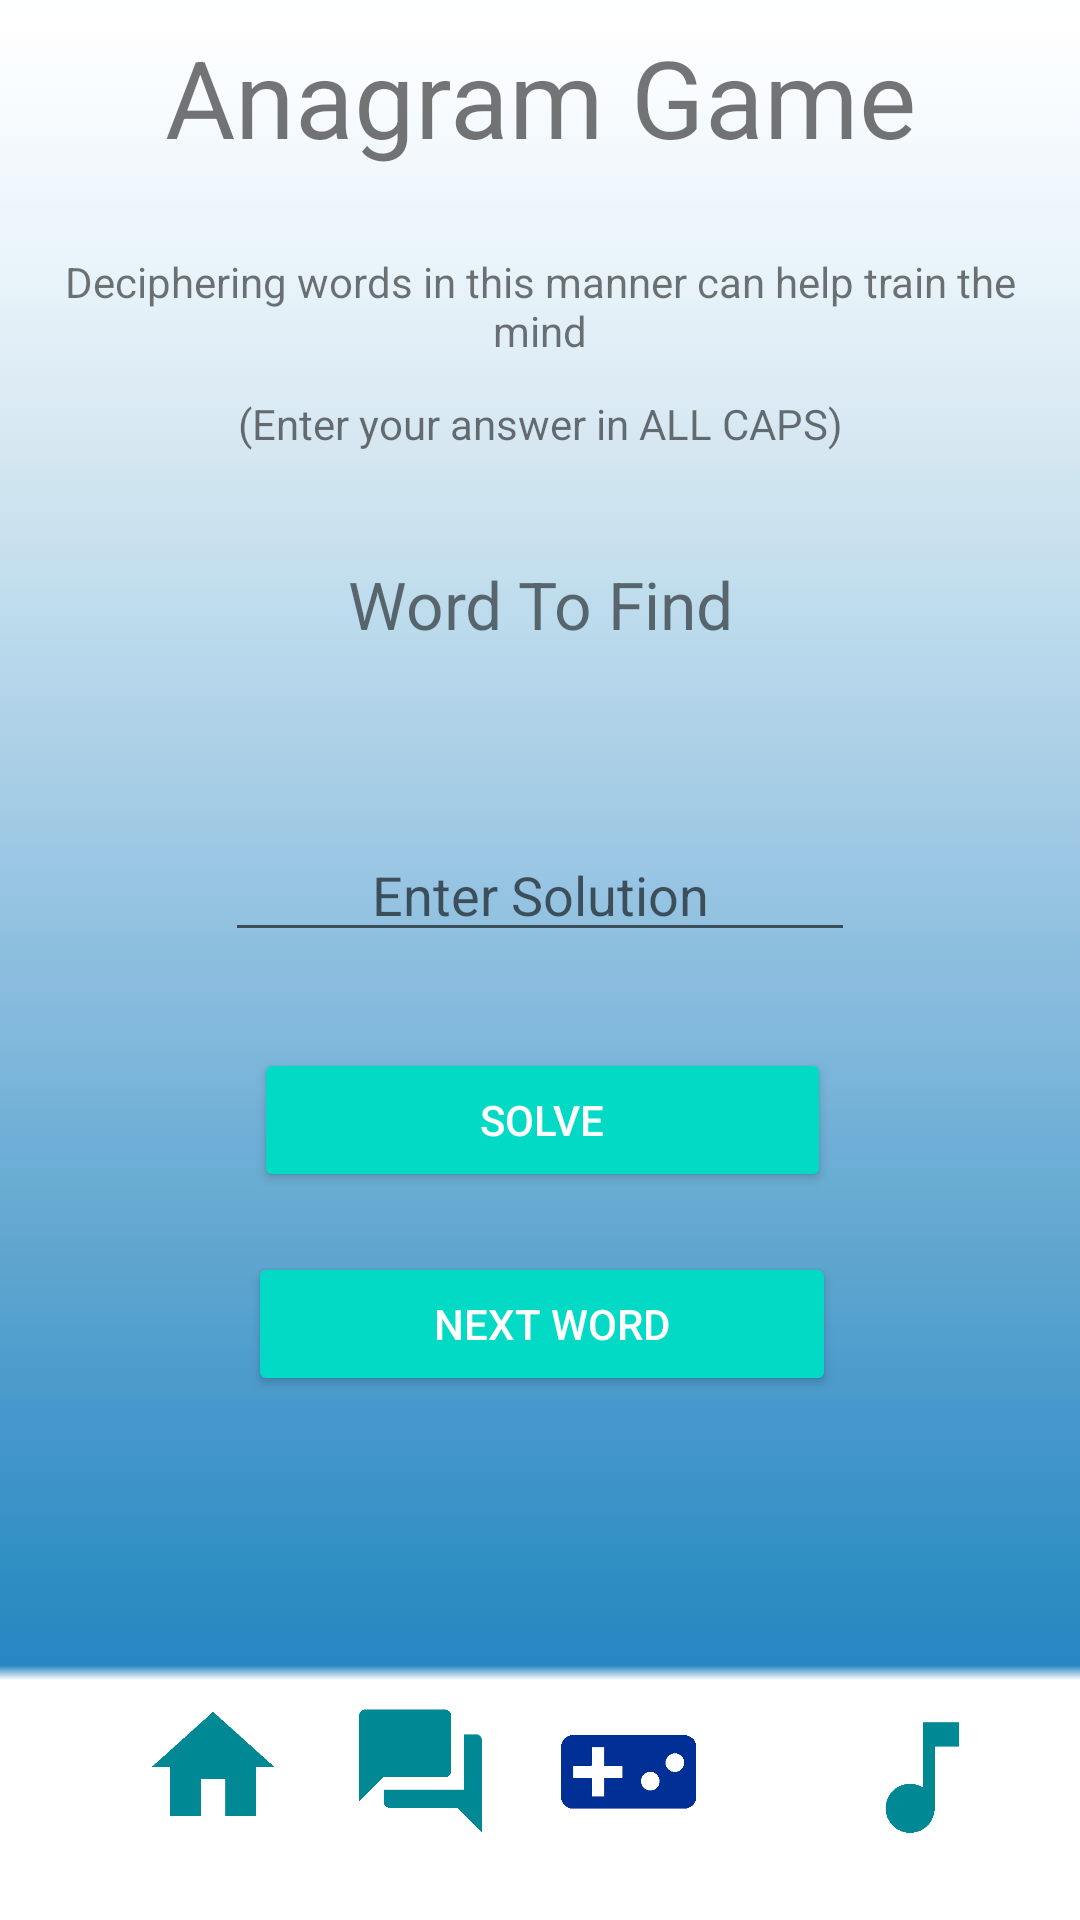

Icons on this 1080x1920 Android screen, each with its box as (x1, y1, x2, y2):
game now: (561, 1735, 696, 1809)
home: (152, 1712, 274, 1816)
music: (885, 1722, 959, 1833)
